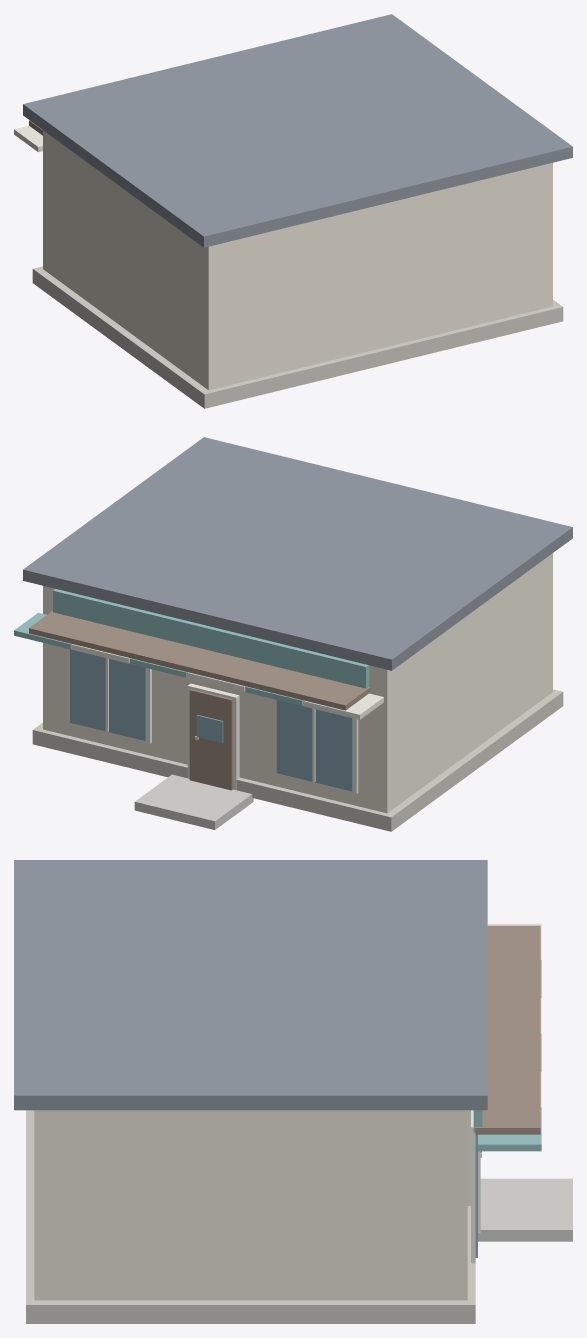
The model's file is Shop_CornerMarket.glb.
The picture shows the model from 3 angles, top to bottom: view 1: azimuth 30°, elevation 25°; view 2: azimuth 150°, elevation 25°; view 3: azimuth 270°, elevation 25°; orthographic projection. The views are drawn at different scales.
Visible parts, largest first — view 1: 001_facade_001, 002_parapet_002, 000_foundation_000; view 2: 002_parapet_002, 001_facade_001, 000_foundation_000, 021_awning_support_021, 003_signboard_003, 005_storefront_glass_005, 008_storefront_glass_008, 014_stoop_014, 011_door_011, 010_door_trim_010, 015_awning_strip_015, 004_storefront_frame_004 (+3 smaller); view 3: 002_parapet_002, 001_facade_001, 000_foundation_000, 021_awning_support_021, 014_stoop_014, 020_awning_strip_020, 007_storefront_frame_007.
Part boxes in pixels (x1,y1,x2,y2): 001_facade_001: [43, 130, 552, 390]; 002_parapet_002: [23, 14, 572, 247]; 000_foundation_000: [32, 266, 563, 408]; 002_parapet_002: [23, 437, 572, 670]; 001_facade_001: [43, 553, 552, 813]; 000_foundation_000: [32, 689, 563, 831]; 021_awning_support_021: [29, 611, 370, 710]; 003_signboard_003: [53, 589, 369, 688]; 005_storefront_glass_005: [276, 700, 353, 791]; 008_storefront_glass_008: [70, 649, 146, 741]; 014_stoop_014: [134, 774, 253, 829]; 011_door_011: [189, 689, 232, 790]; 010_door_trim_010: [187, 683, 239, 790]; 015_awning_strip_015: [303, 693, 383, 719]; 004_storefront_frame_004: [274, 699, 358, 793]; 002_parapet_002: [14, 860, 487, 1110]; 001_facade_001: [34, 1110, 467, 1300]; 000_foundation_000: [26, 1110, 475, 1323]; 021_awning_support_021: [475, 925, 540, 1134]; 014_stoop_014: [478, 1178, 572, 1241]; 020_awning_strip_020: [478, 1108, 541, 1151]; 007_storefront_frame_007: [471, 1110, 475, 1263].
Size of the model in its own units: 9.65 by 4.55 by 9.67.
